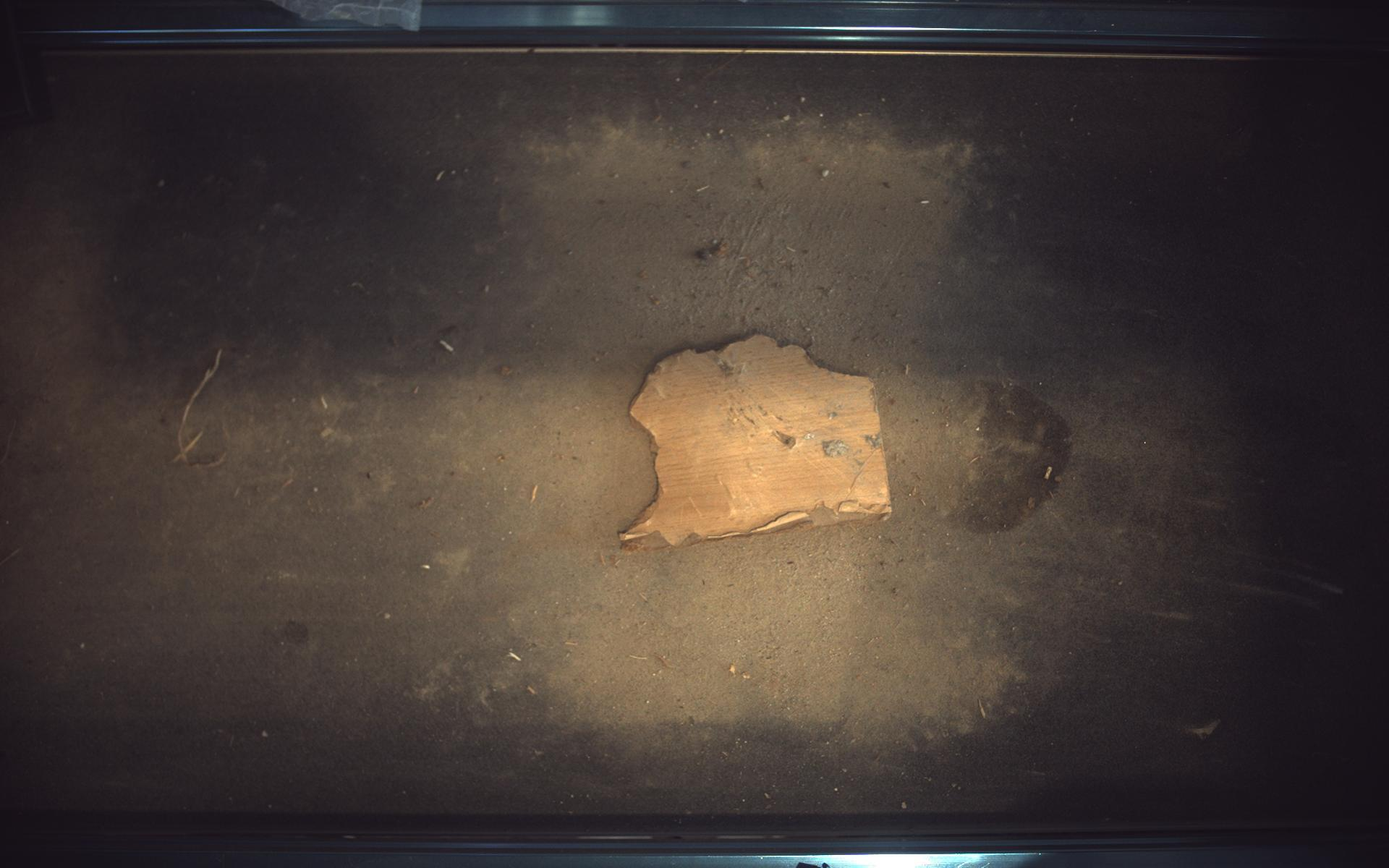wood: (621, 334, 893, 550)
